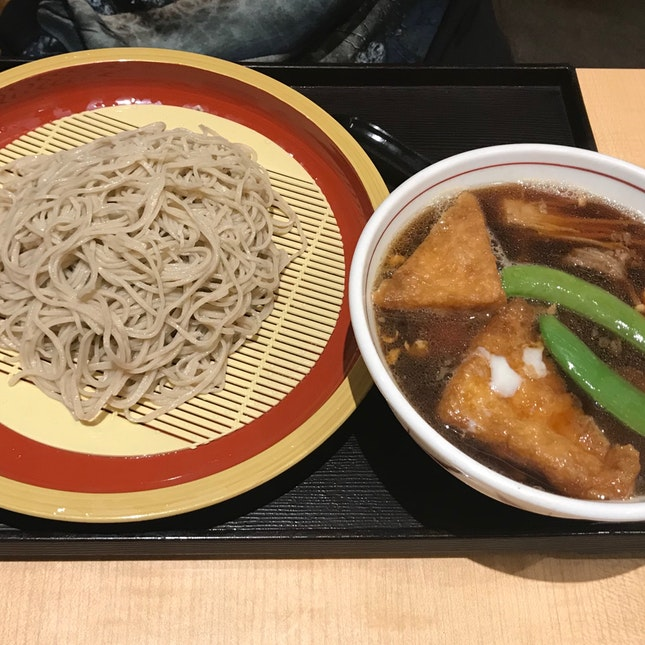Soba: (1, 137, 281, 410)
